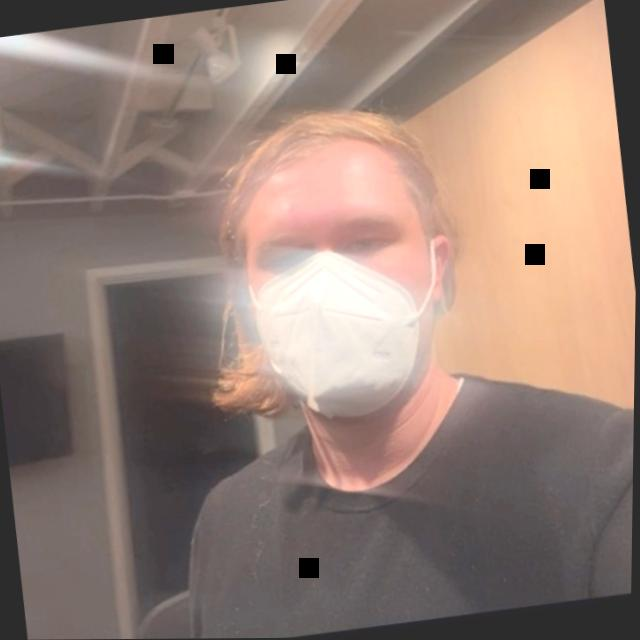Mask: (175, 72, 489, 438)
